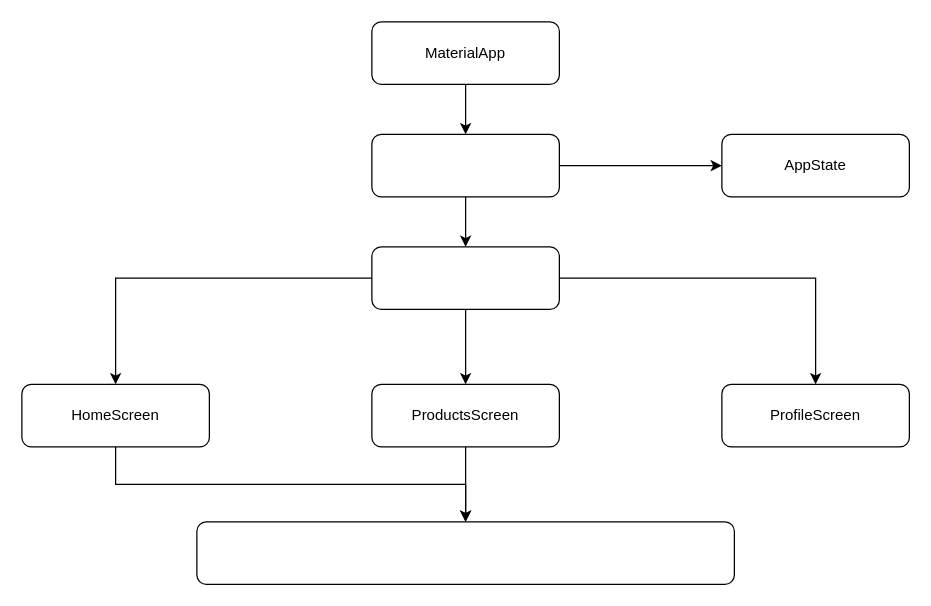
This 931x606 diagram has some shape labels left out. Each missing label, with the box of its shape:
AppStateScope: (371, 133, 559, 197)
Custom widgets: (196, 521, 734, 584)
Main shell: (371, 246, 559, 309)
